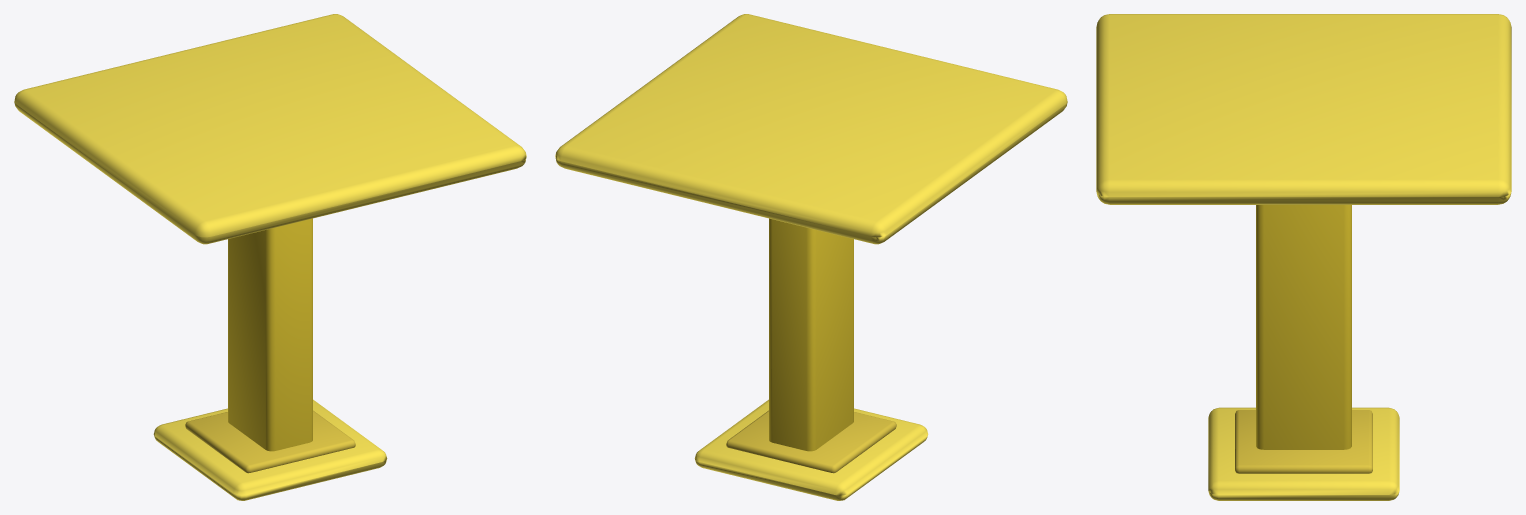
The model's file is table.glb.
The picture shows the model from 3 angles, left to right: view 1: azimuth 30°, elevation 25°; view 2: azimuth 150°, elevation 25°; view 3: azimuth 270°, elevation 25°; orthographic projection. The views are drawn at different scales.
Visible parts, largest first — view 1: CafeTable_Yellow; view 2: CafeTable_Yellow; view 3: CafeTable_Yellow.
Part boxes in pixels (<box>): CafeTable_Yellow: <box>14,14,526,500</box>; CafeTable_Yellow: <box>555,14,1067,500</box>; CafeTable_Yellow: <box>1096,14,1511,500</box>.
Size of the model in its own units: 0.78 by 0.76 by 0.78.
